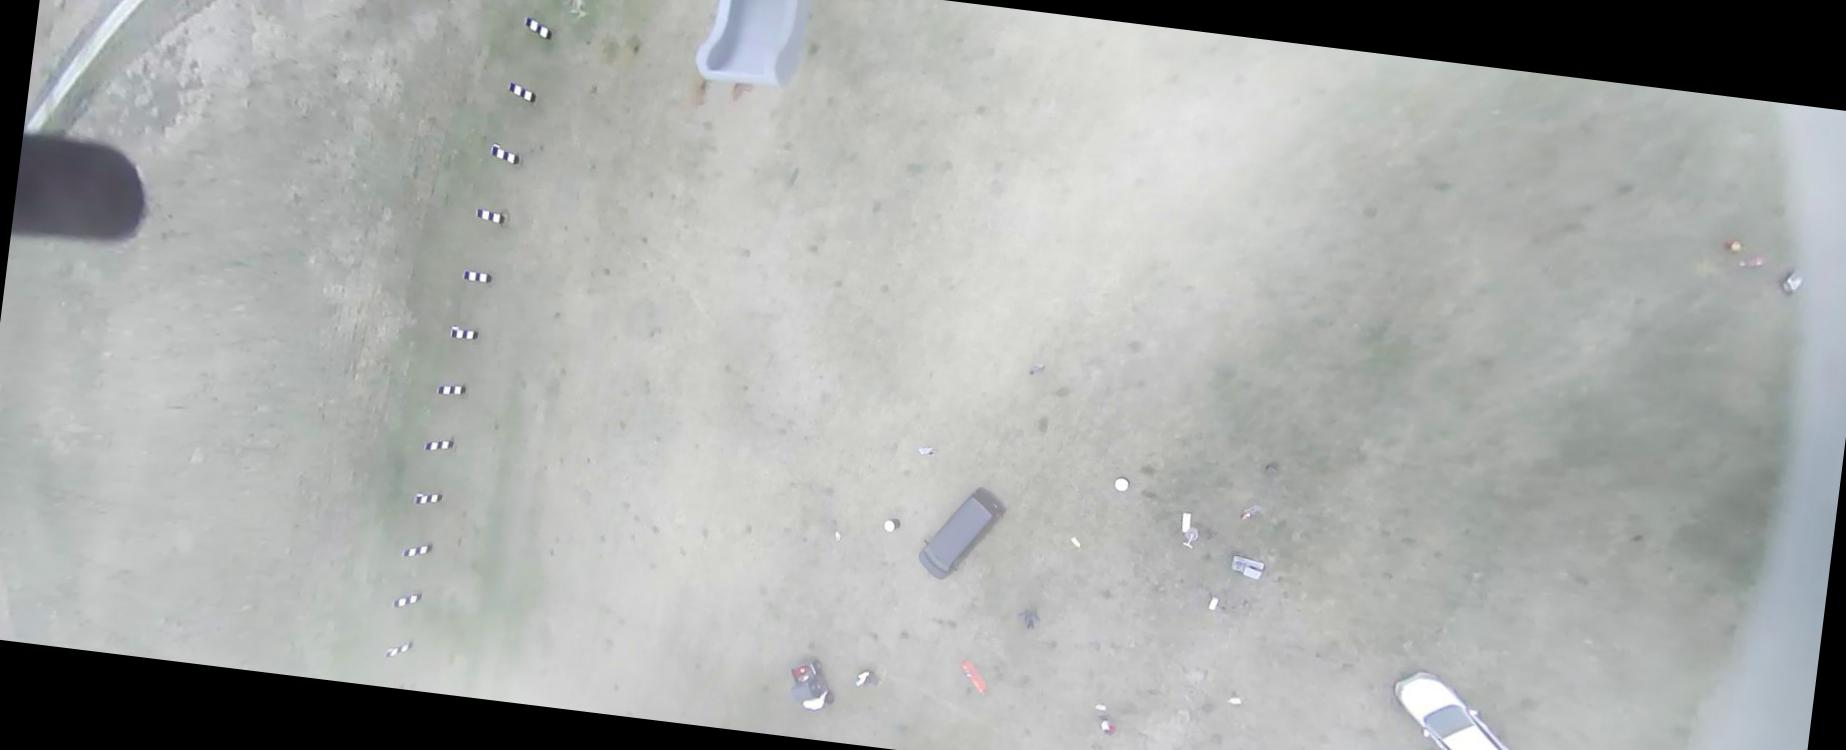vehicle: (1380, 665, 1545, 749), (915, 480, 1008, 586), (785, 656, 838, 715)
